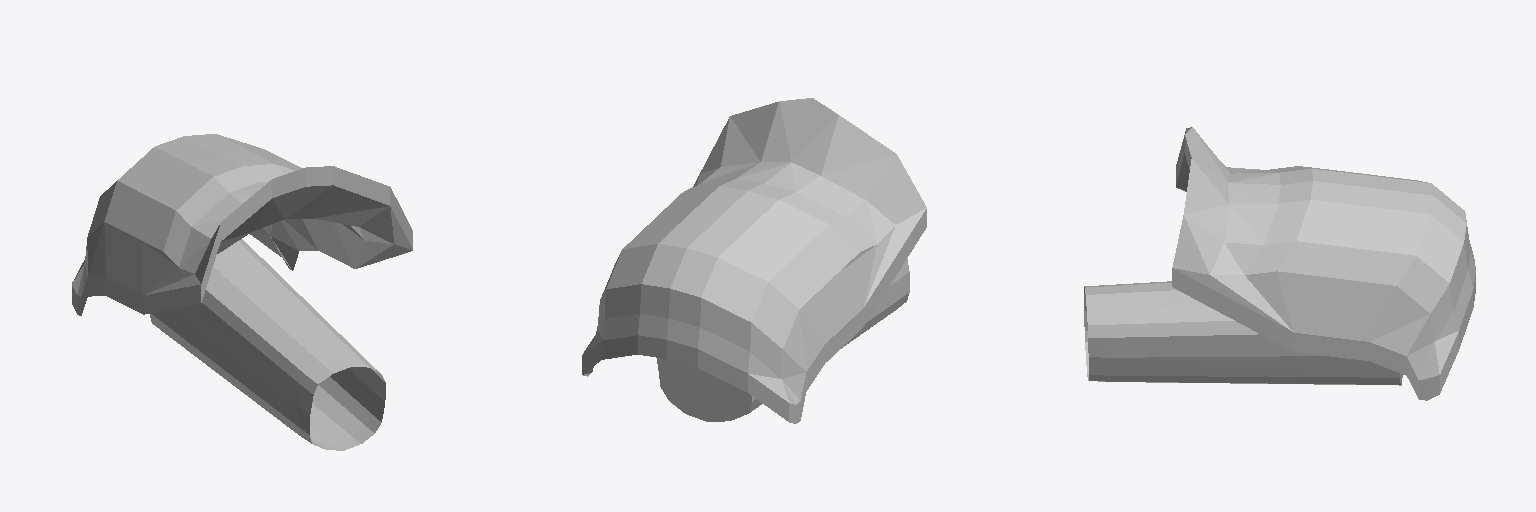
The model's file is Boss_ShoulderL.obj.
The picture shows the model from 3 angles: view 1: azimuth 30°, elevation 25°; view 2: azimuth 150°, elevation 25°; view 3: azimuth 270°, elevation 25°; orthographic projection.
Parts seen in each view (by area): view 1: 立方体.004; view 2: 立方体.004; view 3: 立方体.004.
Boxes of the visible parts, x1,y1,x2,y2 form: 立方体.004: [72, 134, 412, 450]; 立方体.004: [582, 98, 926, 423]; 立方体.004: [1084, 127, 1475, 400].
Size of the model in its own units: 2.51 by 2.76 by 3.99.